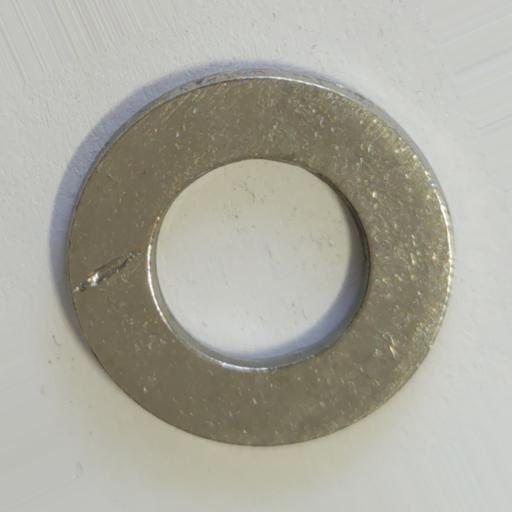scratch: (72, 250, 141, 296)
